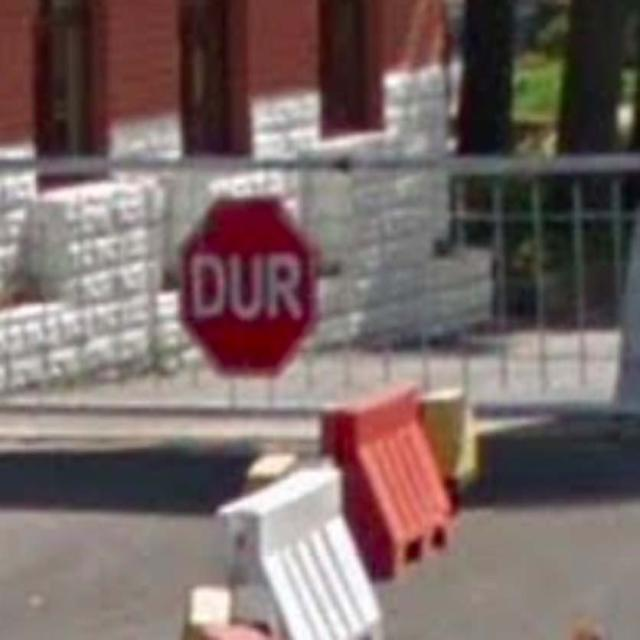dur: (179, 198, 319, 374)
